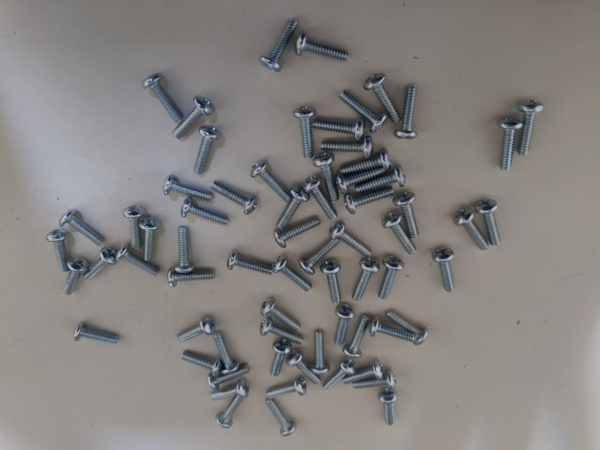shortscrew: (339, 90, 388, 134), (260, 18, 298, 72), (143, 73, 183, 123), (364, 73, 401, 125), (171, 96, 214, 140), (59, 209, 105, 247), (302, 176, 339, 222), (251, 161, 292, 202), (210, 180, 259, 214), (295, 32, 350, 62), (276, 185, 311, 232), (517, 99, 545, 157), (272, 254, 313, 293), (382, 211, 418, 255), (329, 221, 372, 257), (273, 217, 321, 249), (115, 244, 161, 277), (299, 239, 340, 276), (387, 310, 429, 346), (454, 208, 489, 251), (181, 196, 231, 226), (355, 166, 406, 195), (497, 117, 524, 171), (261, 296, 301, 332), (163, 174, 214, 202), (341, 149, 392, 177), (336, 167, 387, 195), (345, 187, 395, 215), (193, 126, 222, 174), (313, 153, 340, 203), (286, 349, 323, 385), (321, 135, 374, 160), (265, 398, 298, 438), (352, 257, 381, 302), (475, 200, 502, 247), (260, 317, 305, 345), (313, 118, 365, 142), (395, 86, 418, 140), (343, 315, 371, 359), (393, 192, 419, 239), (227, 251, 274, 277), (293, 107, 316, 160), (181, 350, 225, 377), (431, 247, 456, 293), (370, 317, 416, 342), (379, 256, 405, 300), (62, 257, 91, 296), (85, 248, 118, 282), (323, 359, 357, 392), (177, 315, 217, 343), (207, 364, 250, 390), (343, 359, 384, 386), (74, 322, 120, 346), (46, 229, 71, 273), (213, 333, 239, 374), (175, 226, 196, 274), (352, 369, 397, 391), (216, 395, 245, 429), (167, 268, 216, 288), (123, 205, 145, 249), (140, 218, 162, 261), (311, 329, 331, 376), (321, 260, 342, 304), (265, 378, 307, 399), (335, 304, 356, 346), (270, 337, 292, 377), (210, 380, 251, 401), (378, 389, 398, 426)
